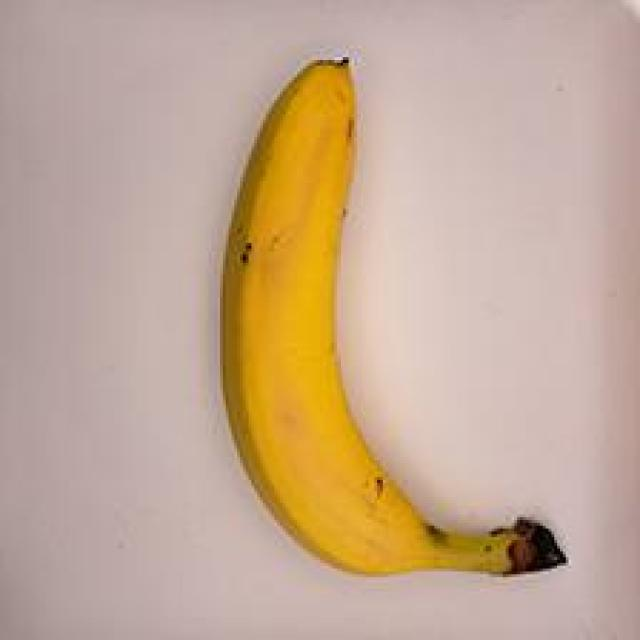Ripe: (194, 43, 575, 615)
